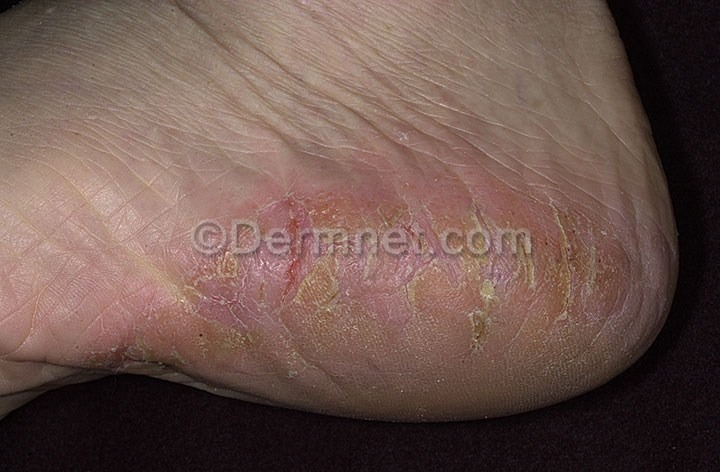Eczema: (74, 172, 678, 423)
